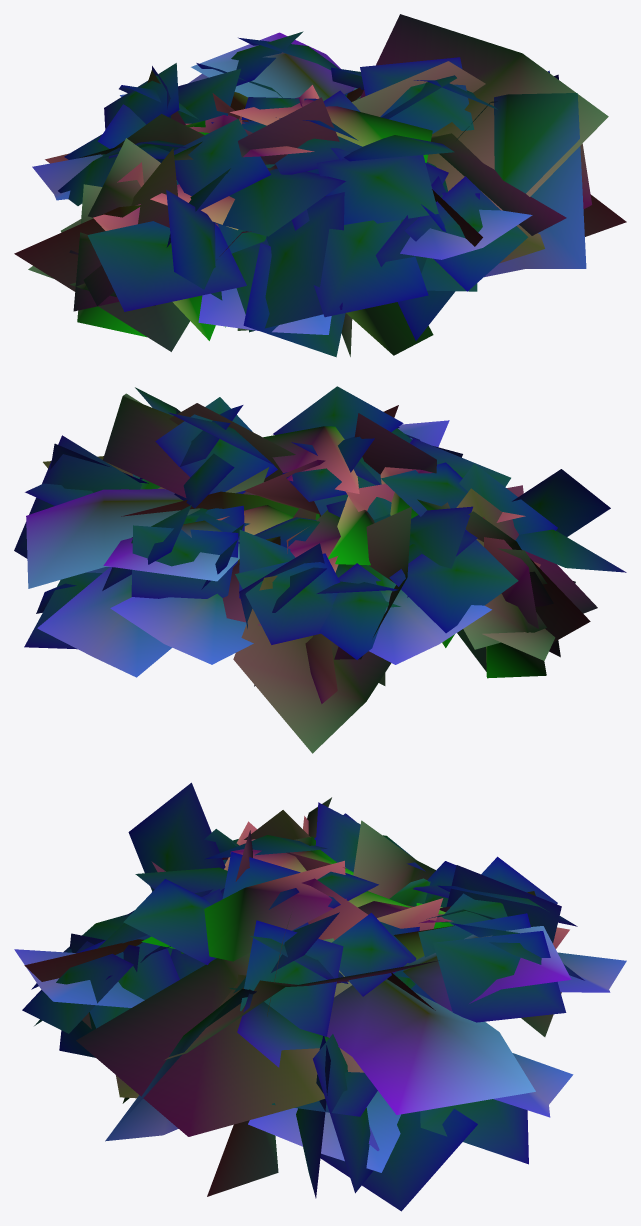
Rendered from bush_b_low.dae.
3 renders of one model, top to bottom at view 1: azimuth 30°, elevation 25°; view 2: azimuth 150°, elevation 25°; view 3: azimuth 270°, elevation 25°, orthographic. The views are drawn at different scales.
Visible parts, largest first — view 1: bush_b_low; view 2: bush_b_low; view 3: bush_b_low.
Boxes of the visible parts, bbox=[...] form: bush_b_low: bbox=[14, 14, 626, 357]; bush_b_low: bbox=[14, 386, 626, 753]; bush_b_low: bbox=[14, 782, 626, 1211].
Bounding box in the file's own units: 3.18 × 2.72 × 1.29.
